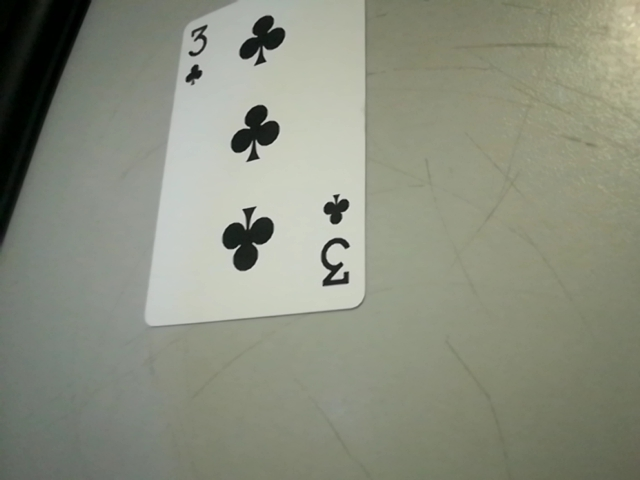mh 3: (309, 184, 369, 303)
